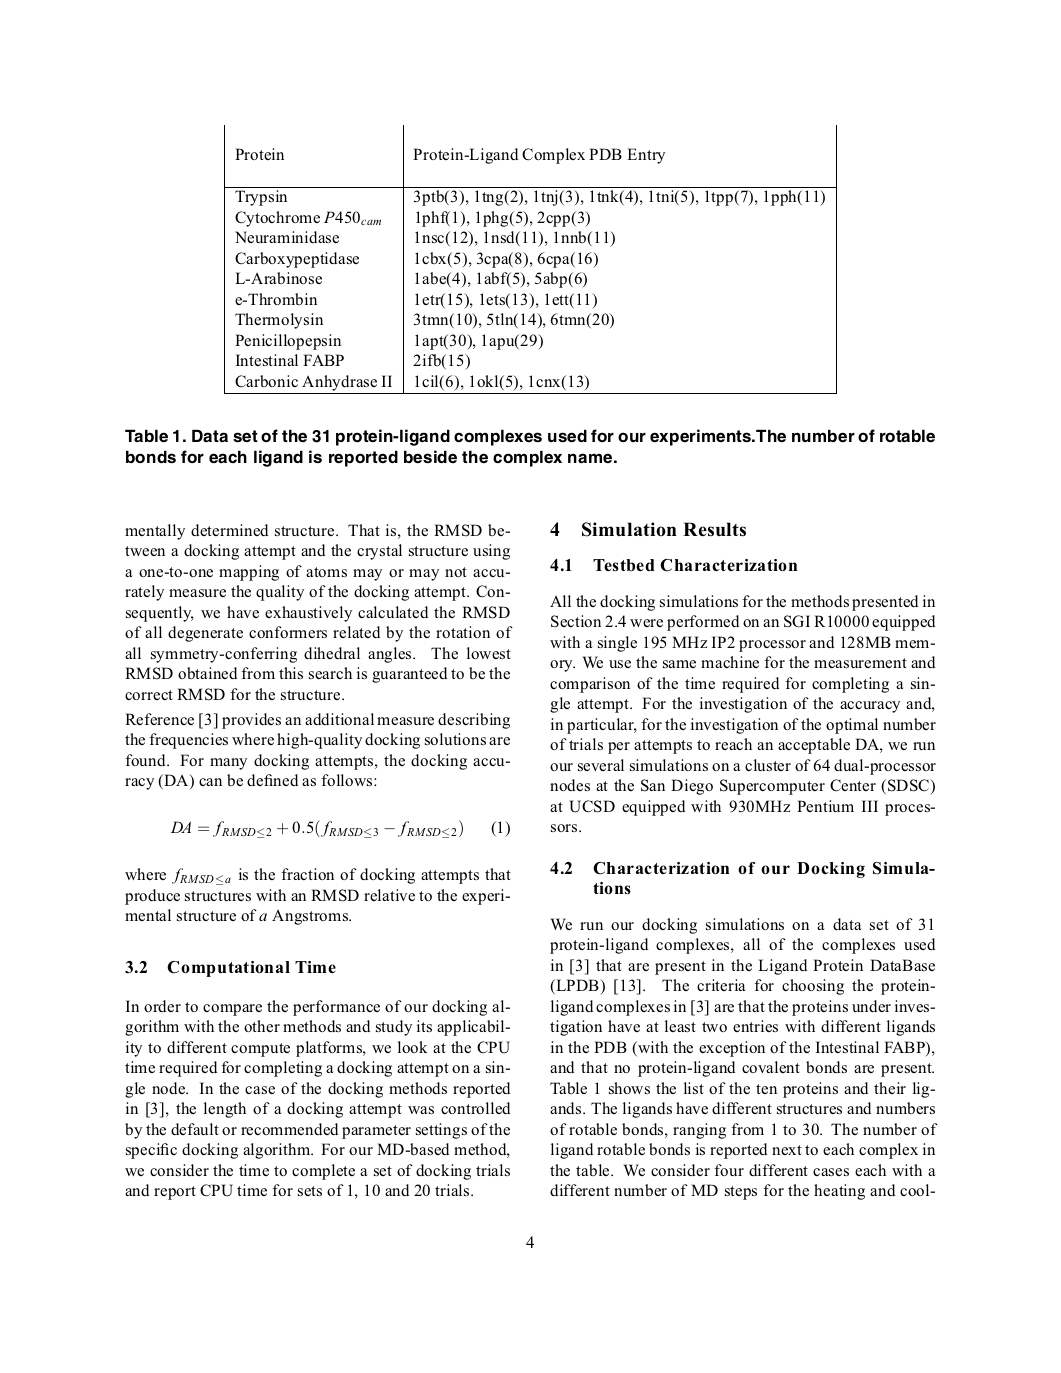Table: (224, 124, 836, 395)
formula: (171, 819, 509, 838)
